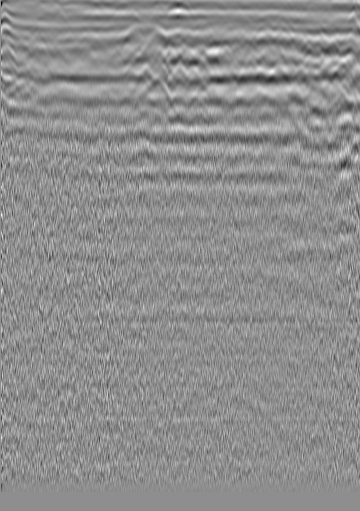가스: (126, 139, 162, 166)
상수: (300, 35, 320, 55)
오수: (33, 22, 53, 42)
우수: (166, 25, 186, 45)
